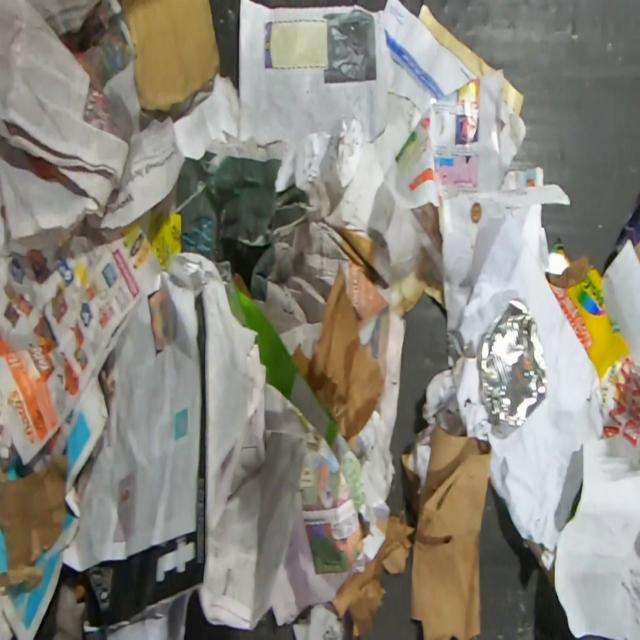cardboard: (0, 375, 109, 640), (410, 419, 493, 640), (544, 235, 632, 383), (117, 0, 220, 111)
metal: (480, 297, 548, 426)
